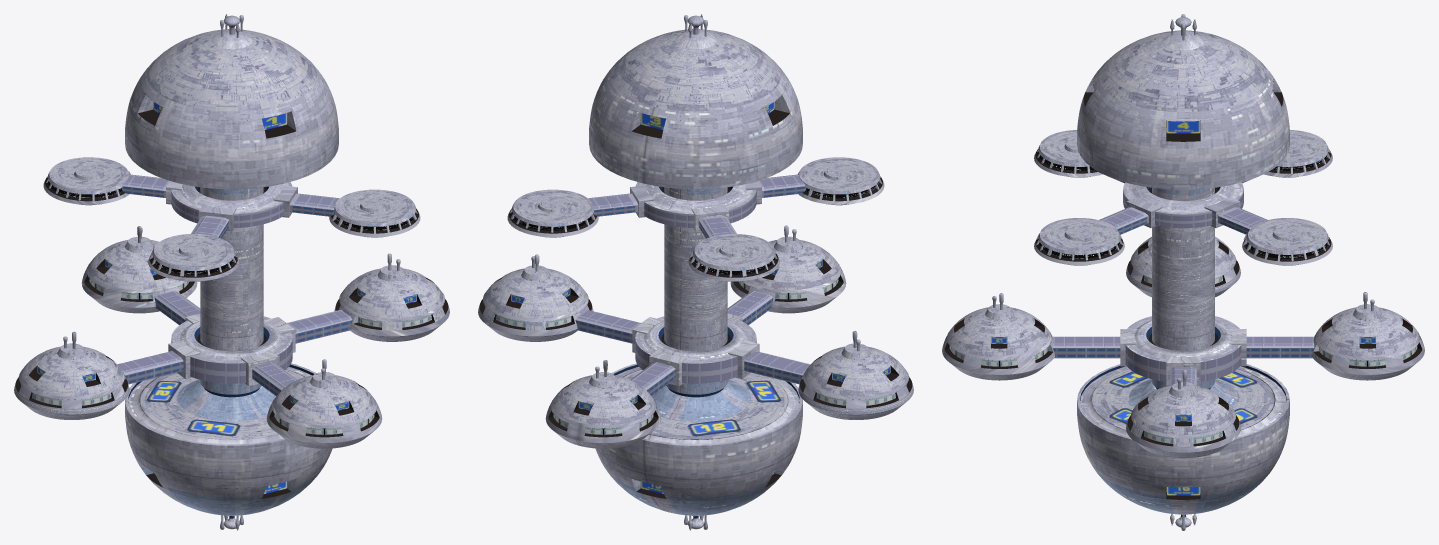
3 views of the same model, side by side, from view 1: azimuth 30°, elevation 25°; view 2: azimuth 150°, elevation 25°; view 3: azimuth 270°, elevation 25° (orthographic).
Parts seen in each view (by area): view 1: Polygon; view 2: Polygon; view 3: Polygon.
Part boxes in pixels (x1,y1,x2,y2): Polygon: [14, 14, 449, 530]; Polygon: [478, 14, 913, 530]; Polygon: [942, 14, 1424, 530].
Size of the model in its own units: 4.2 by 4.88 by 4.2.
